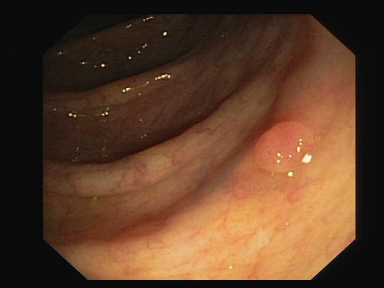polyp: (229, 105, 339, 182)
